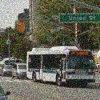buses: (22, 47, 97, 88)
